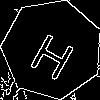H: (27, 24, 82, 82)
